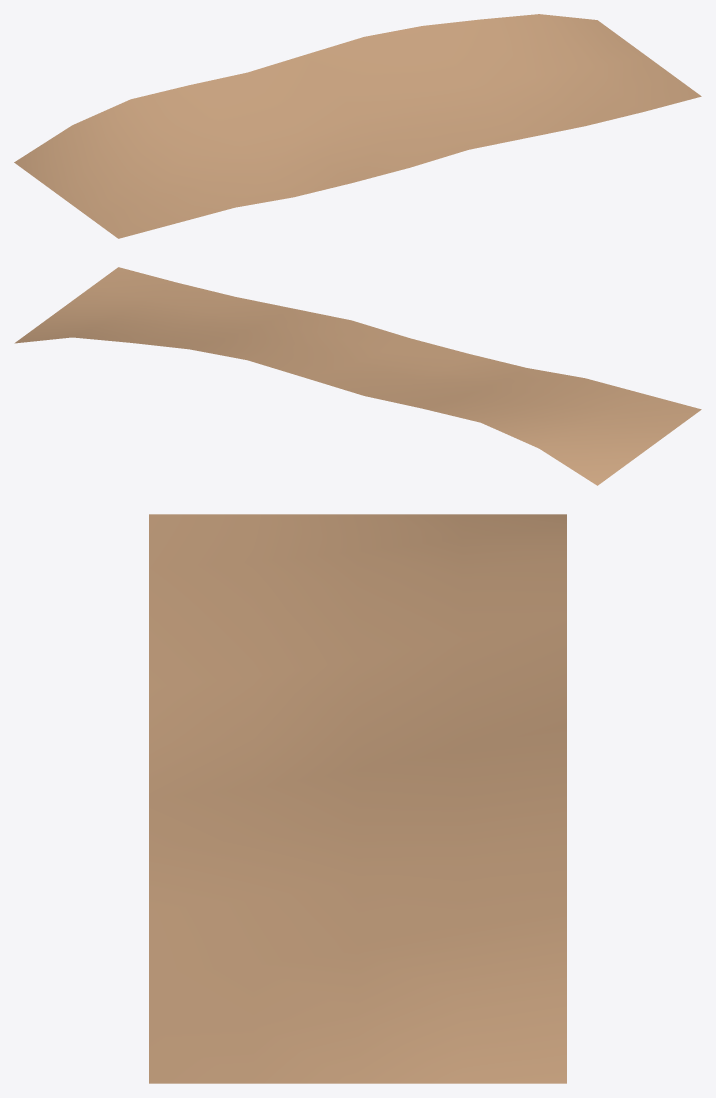
Rendered from sand_stairs.glb.
The picture shows the model from 3 angles, top to bottom: view 1: azimuth 30°, elevation 25°; view 2: azimuth 150°, elevation 25°; view 3: azimuth 270°, elevation 25°; orthographic projection. The views are drawn at different scales.
Visible parts, largest first — view 1: sand_stairs; view 2: sand_stairs; view 3: sand_stairs.
Boxes of the visible parts, x1,y1,x2,y2 form: sand_stairs: [14, 14, 701, 238]; sand_stairs: [14, 267, 701, 485]; sand_stairs: [149, 514, 566, 1083].
Size of the model in its own units: 2 by 0.1356 by 0.62.
